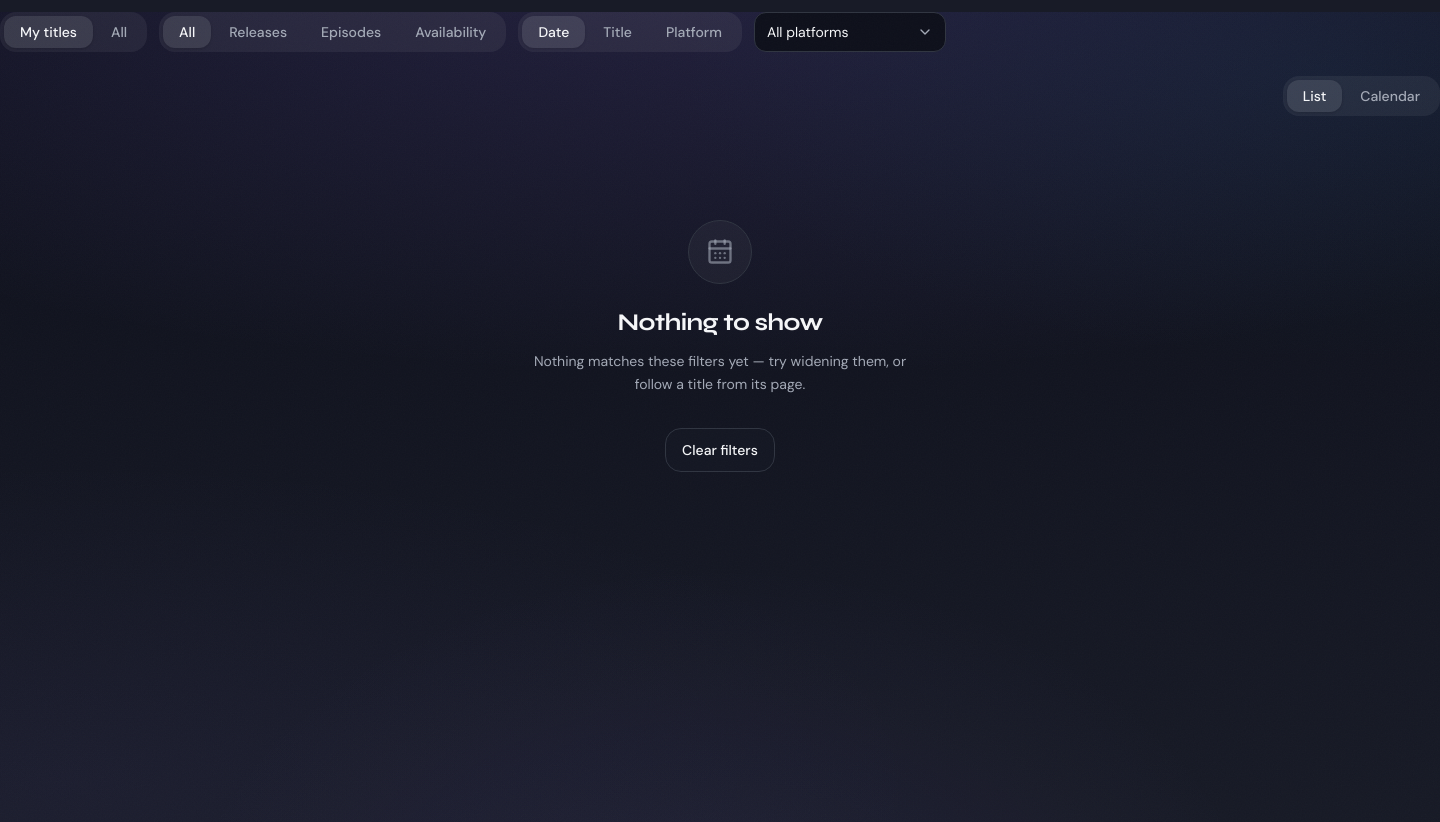
Test: TrackingList › renders the filtered-to-empty state, with a filter-reset action, when data exists but the current filters exclude all of it
The width and height of the screenshot is (1440, 822).
Expected: the text "Nothing to show" is shown, x1=618 y1=308 x2=822 y2=338
Click the button "Clear filters" at (720, 450), box x1=665 y1=428 x2=775 y2=472
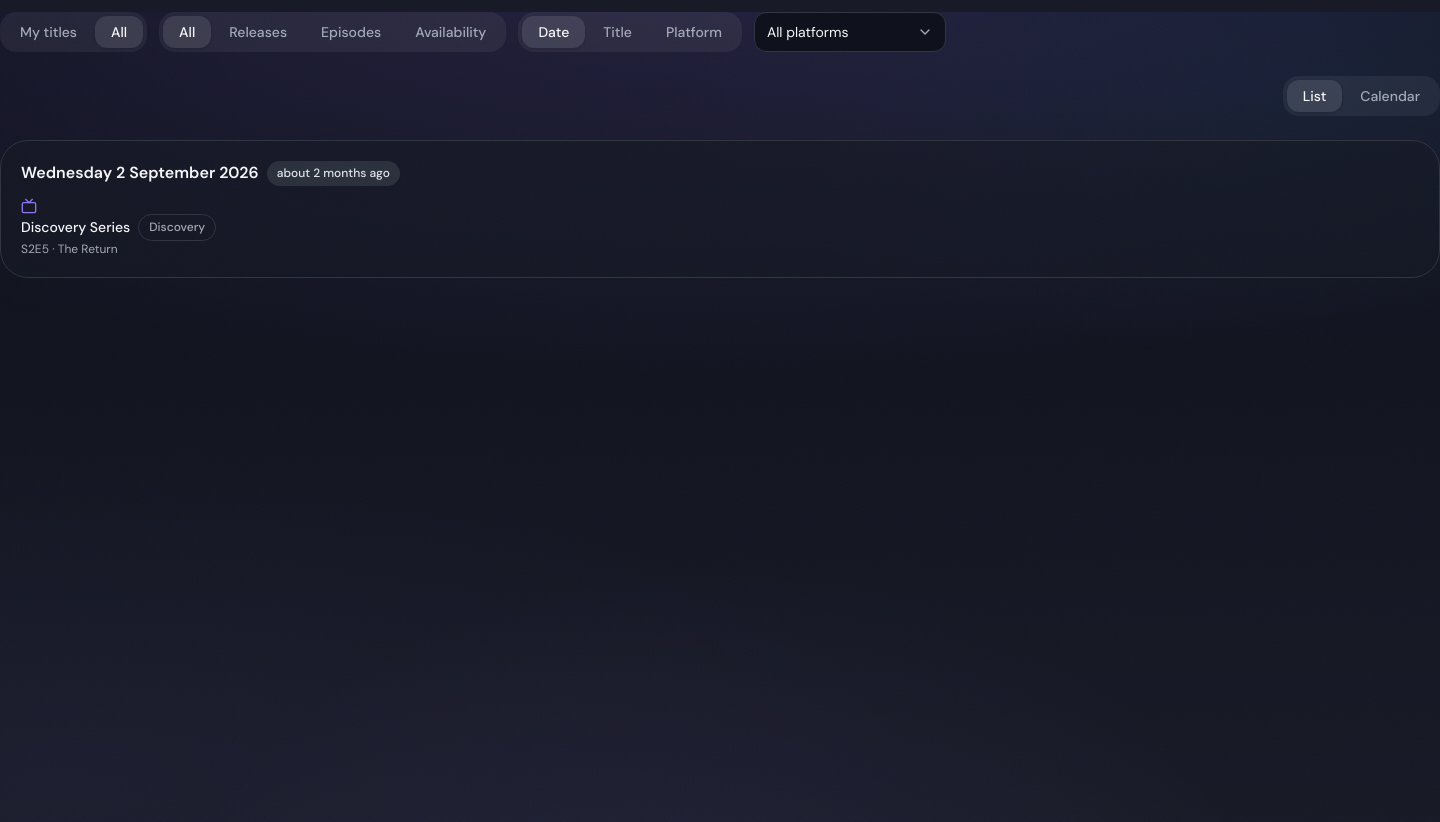
Expected: the text "Discovery Series" is shown, x1=21 y1=217 x2=130 y2=237
